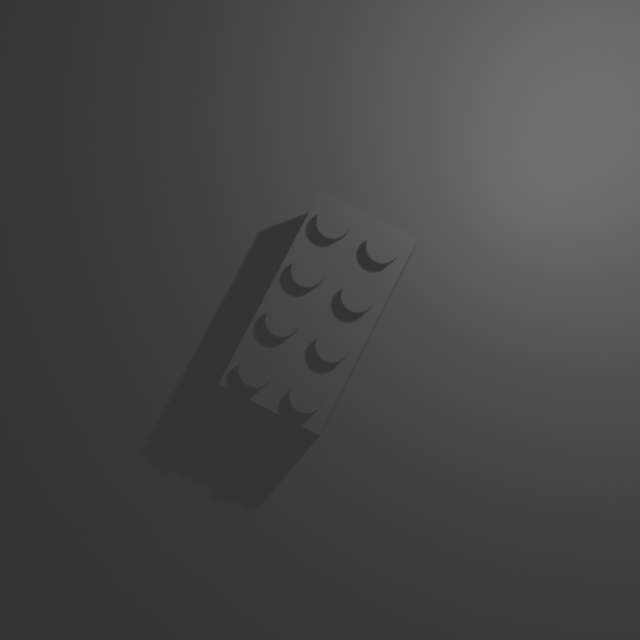lego_2x4: (217, 186, 420, 437)
